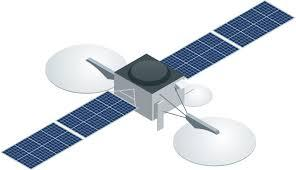antenna: (170, 114, 259, 170), (43, 41, 130, 96), (180, 82, 215, 109)
body: (112, 52, 188, 123)
solar: (0, 89, 140, 170), (157, 0, 296, 81)
